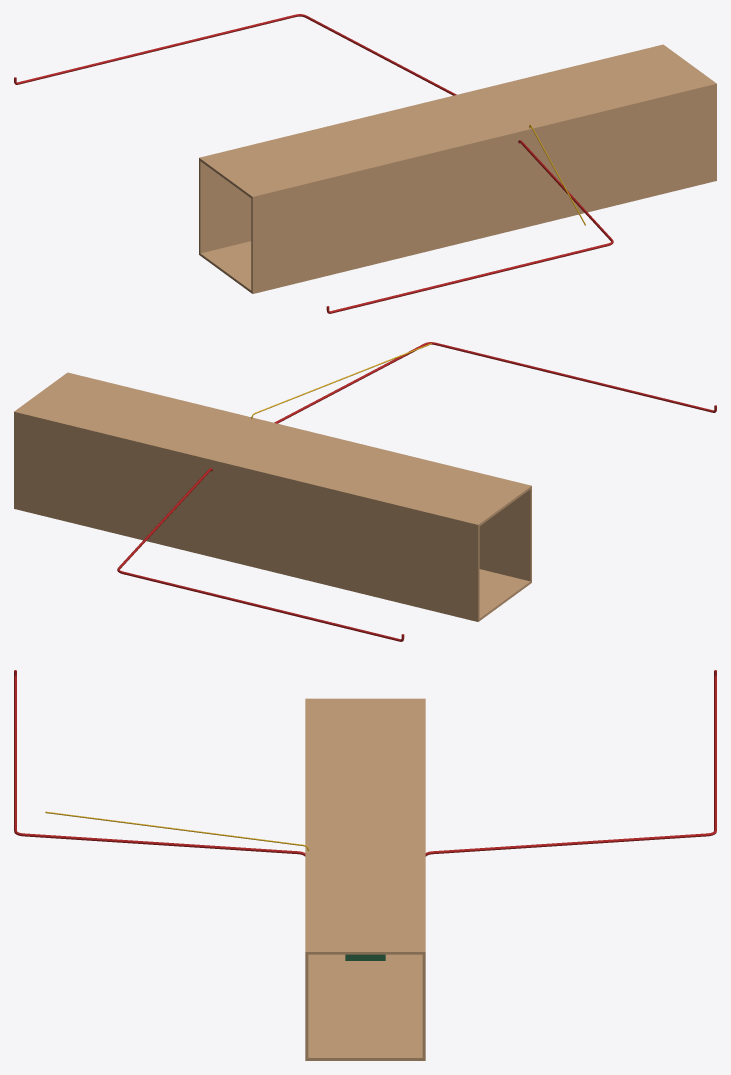
File: ex_fuselage.glb
3 renders of one model, top to bottom at view 1: azimuth 30°, elevation 25°; view 2: azimuth 150°, elevation 25°; view 3: azimuth 270°, elevation 25°, orthographic. The views are drawn at different scales.
Parts seen in each view (by area): view 1: FUS-001, E-FUS-05, E-FUS-04; view 2: FUS-001, E-FUS-04, E-FUS-05; view 3: FUS-001, E-FUS-04, E-FUS-05.
Boxes of the visible parts, <box> form: FUS-001: <box>199,44,716,293</box>; E-FUS-05: <box>14,14,456,95</box>; E-FUS-04: <box>326,140,613,313</box>; FUS-001: <box>14,372,531,621</box>; E-FUS-04: <box>274,342,716,423</box>; E-FUS-05: <box>117,468,404,641</box>; FUS-001: <box>305,698,425,1060</box>; E-FUS-04: <box>14,670,305,856</box>; E-FUS-05: <box>425,670,716,856</box>.
Size of the model in its own units: 0.6715 by 0.1257 by 0.703.
